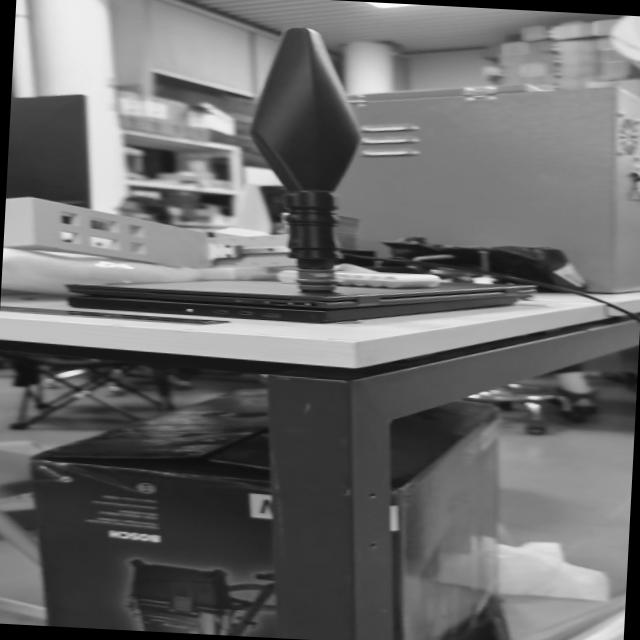base: (292, 266, 339, 294)
